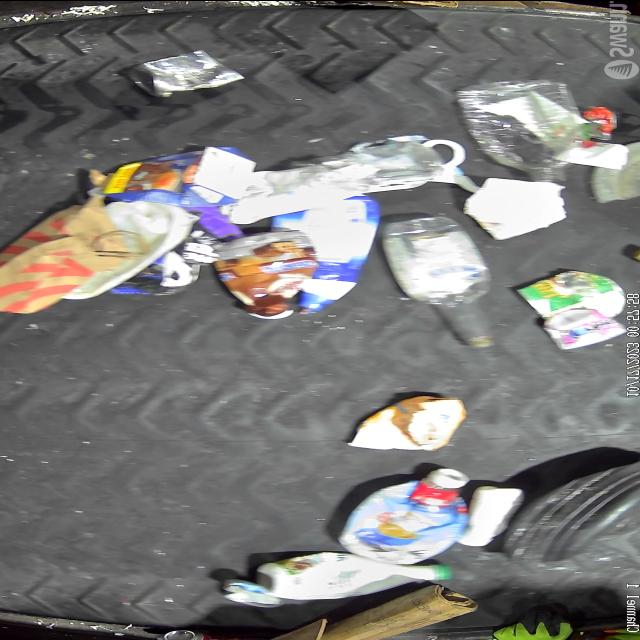can: (516, 268, 624, 318), (134, 49, 245, 94), (158, 628, 256, 640)
milk_jug: (64, 188, 193, 298)
non_white_jug: (280, 197, 382, 310), (103, 144, 259, 207)
plastic_bottle: (383, 214, 495, 346), (456, 78, 579, 180)
